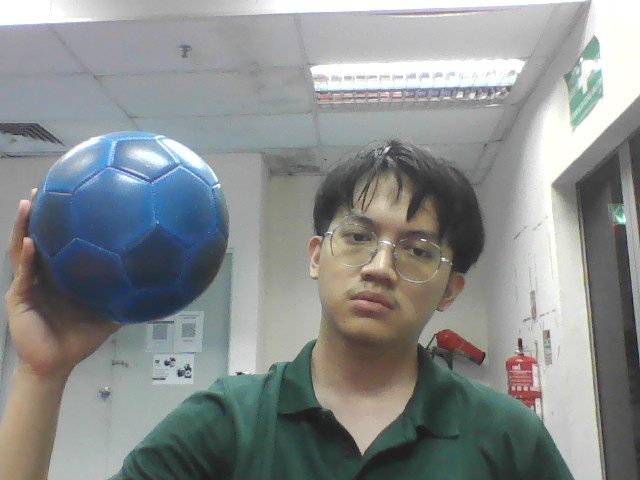Blue: (30, 131, 230, 323)
